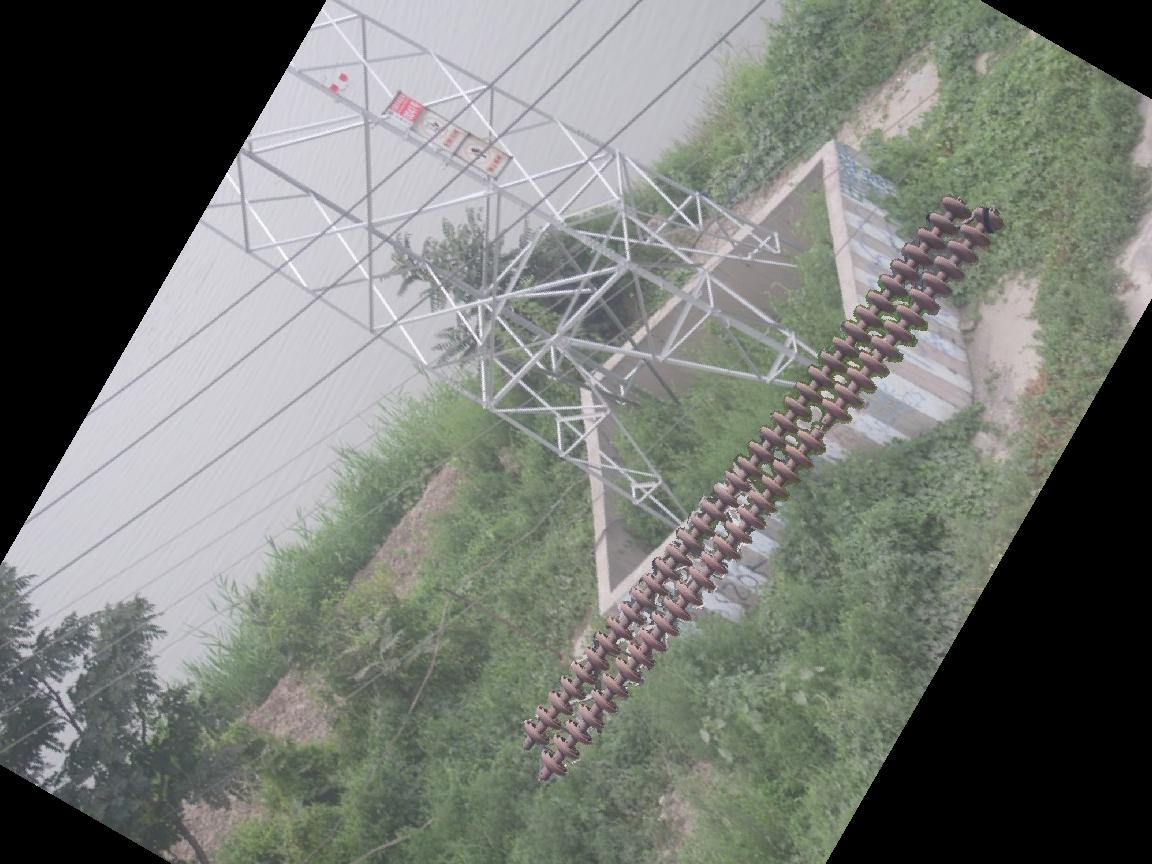insulator: (519, 191, 1008, 780)
insulator_stringdrop: (796, 395, 854, 457)
